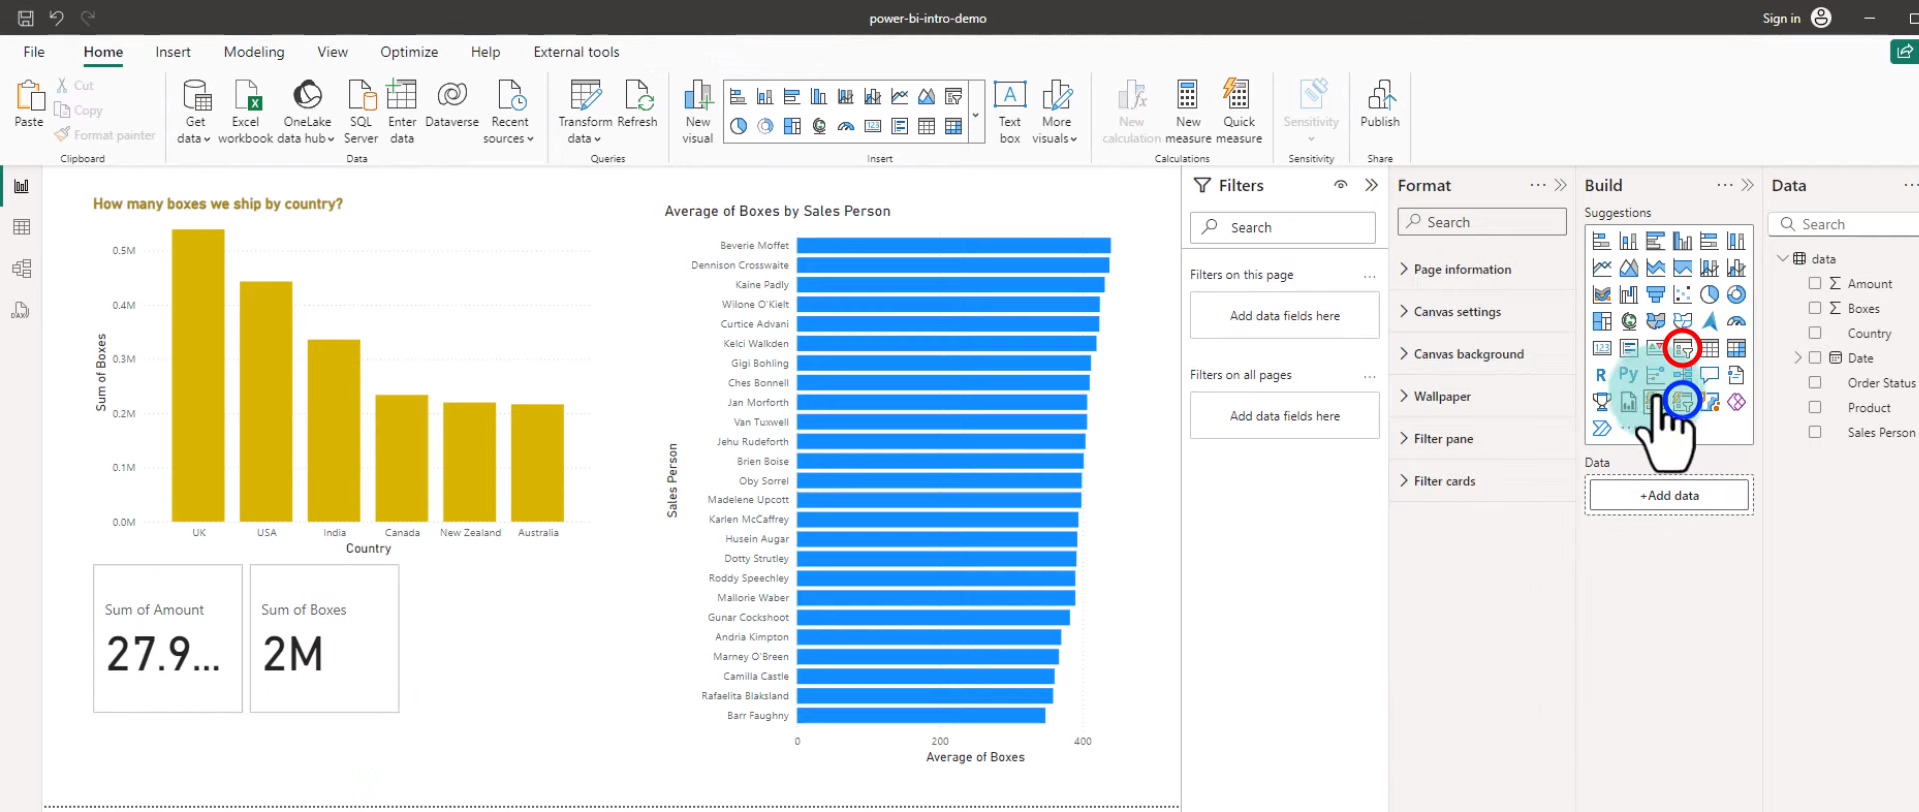

What the dashboard file says about the page in this screenshot:
{"tool":"powerbi","page":{"name":"Page 1","canvas":[1280,720],"ordinal":0},"visuals":[{"type":"columnChart","title":"How many boxes we ship by country?","fields":{"Category":["data.Country"],"Y":["Sum(data.Boxes)"]},"box":[17.5,3.8,711.2,330],"z":0},{"type":"clusteredBarChart","fields":{"Category":["data.Sales Person"],"Y":["Avg(data.Boxes)"]},"box":[768.8,0,511.2,702.5],"z":1000},{"type":"cardVisual","fields":{"Data":["Sum(data.Amount)","Sum(data.Boxes)"]},"box":[17.5,360,347.5,161.2],"z":2000},{"type":"slicer","fields":{"Values":["data.Product"]},"box":[403.8,341.2,325,361.2],"z":3000},{"type":"slicer","fields":{"Values":["data.Date"]},"box":[41.2,543.8,323.8,122.5],"z":4000}]}

Visuals, with their boxes on the page's 1280x720 design canvas (x1, y1, x2, y2). These are canvas units, not pixel positions in the 1919x812 screenshot, which may show the page scaled, cropped or inside an application window:
"How many boxes we ship by country?" columnChart: bbox=[18, 4, 729, 334]
clusteredBarChart - data.Sales Person x Avg(data.Boxes): bbox=[769, 0, 1280, 702]
cardVisual - Sum(data.Amount) x Sum(data.Boxes): bbox=[18, 360, 365, 521]
slicer - data.Product: bbox=[404, 341, 729, 702]
slicer - data.Date: bbox=[41, 544, 365, 666]
